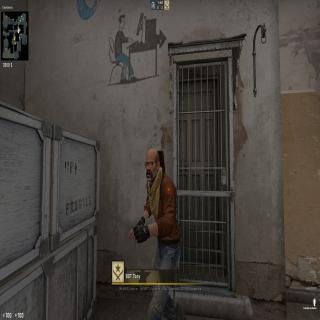T-Head: (143, 146, 161, 187)
